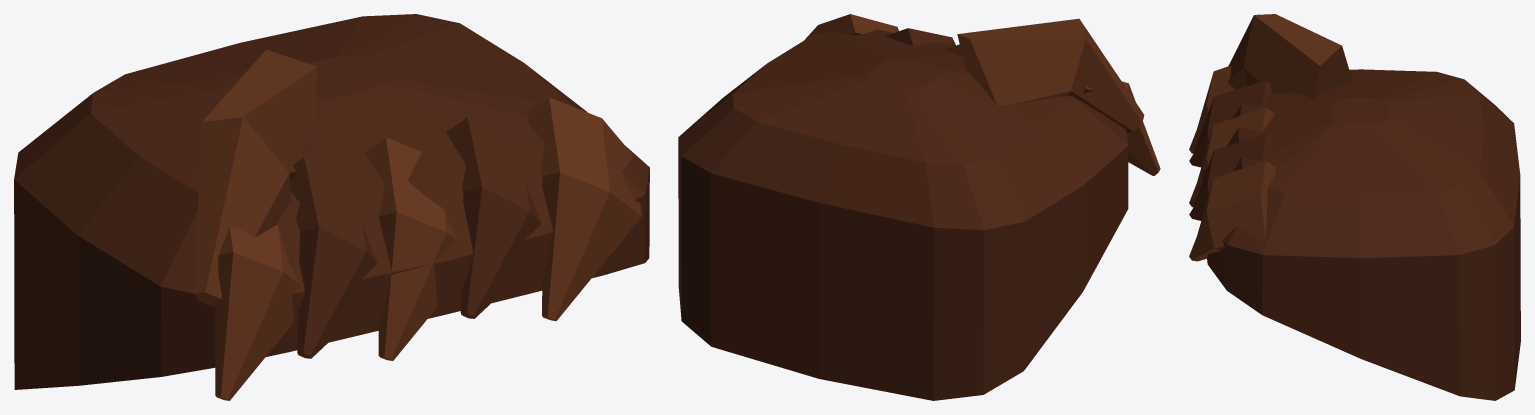
File: SM_NPC_Hair_05_Swept.glb
3 views of the same model, side by side, from view 1: azimuth 30°, elevation 25°; view 2: azimuth 150°, elevation 25°; view 3: azimuth 270°, elevation 25° (orthographic). The views are drawn at different scales.
Parts seen in each view (by area): view 1: SM_NPC_Hair_05_Swept; view 2: SM_NPC_Hair_05_Swept; view 3: SM_NPC_Hair_05_Swept.
Boxes of the visible parts, x1,y1,x2,y2 form: SM_NPC_Hair_05_Swept: (14,14,649,400); SM_NPC_Hair_05_Swept: (678,14,1160,400); SM_NPC_Hair_05_Swept: (1189,14,1520,400).
Size of the model in its own units: 0.654 by 0.4967 by 0.5506.
